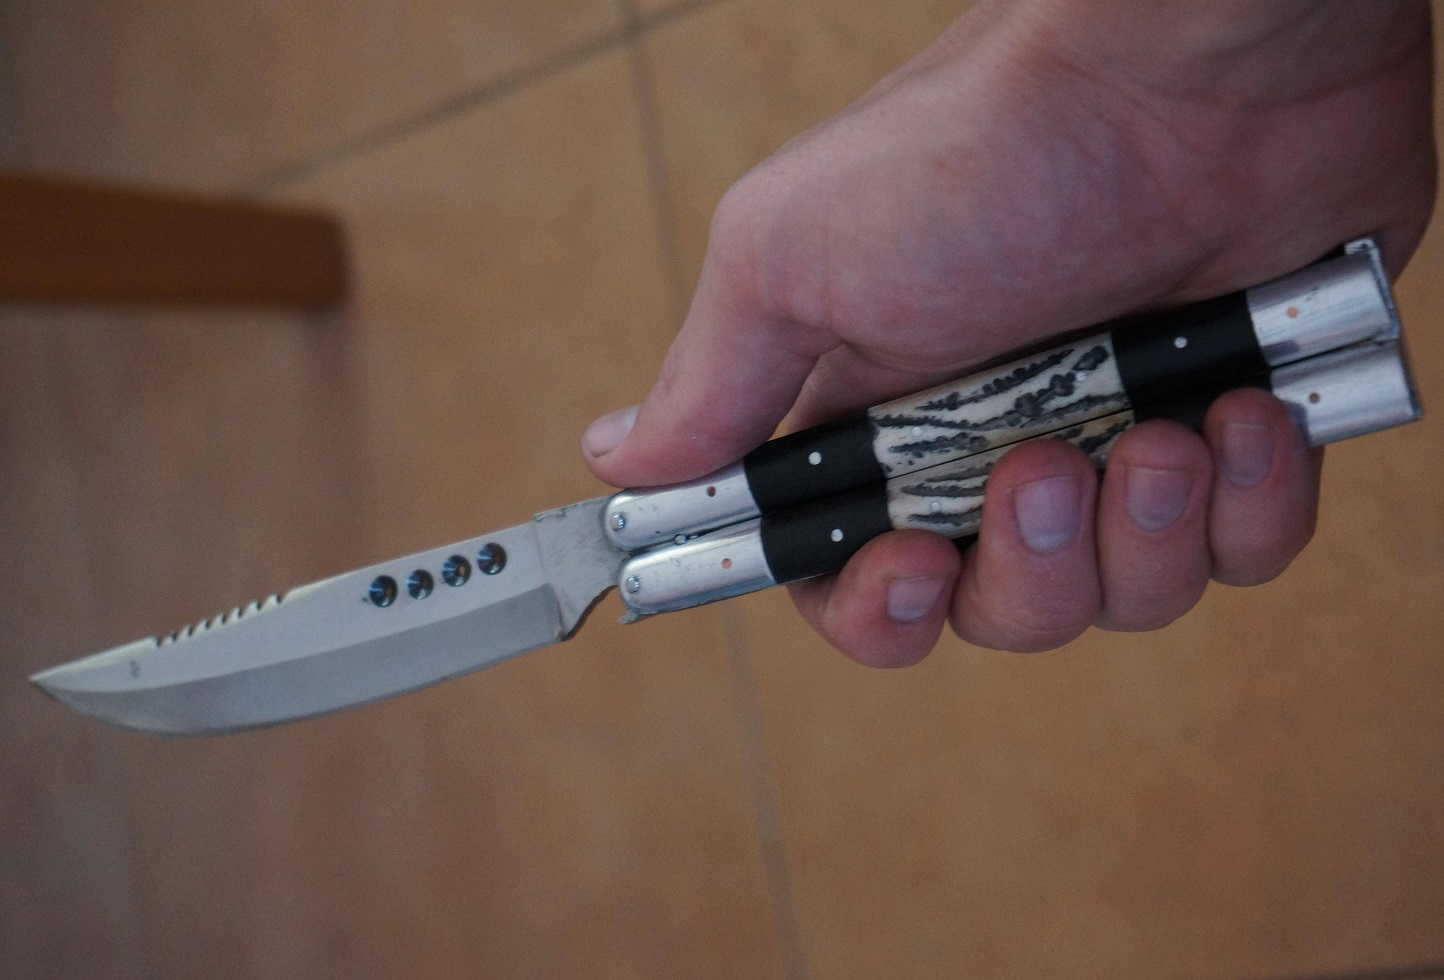knife: (16, 253, 1111, 744)
